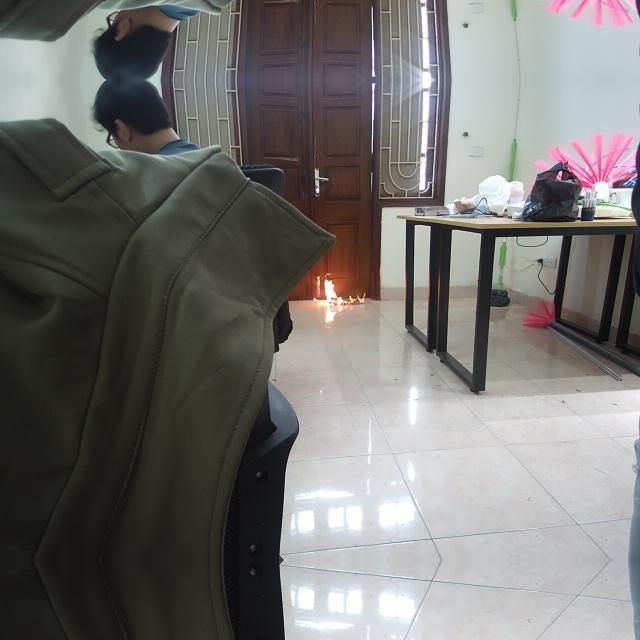smoke: (322, 270, 364, 304)
